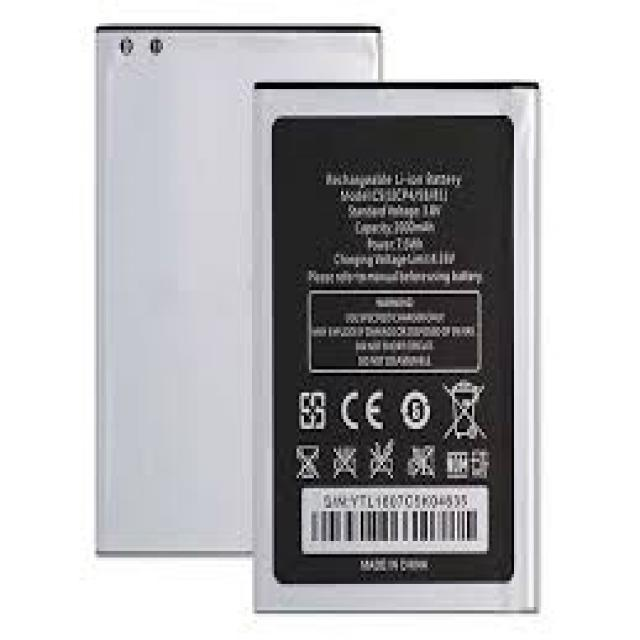non-organic waste: (251, 76, 538, 612), (97, 24, 382, 550)
